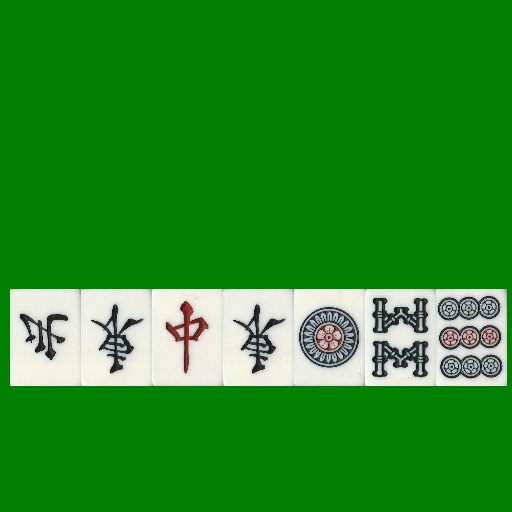1p: (294, 289, 365, 386)
8s: (365, 289, 436, 386)
9p: (436, 289, 507, 386)
east: (81, 289, 152, 386), (223, 289, 294, 386)
north: (10, 289, 81, 386)
tyun: (152, 289, 223, 386)
